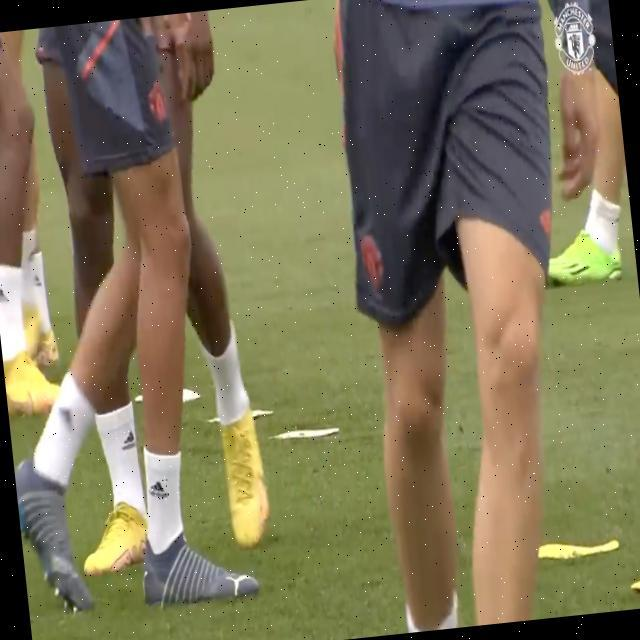Adidas: (147, 474, 170, 501), (120, 426, 137, 451), (0, 282, 9, 304)
